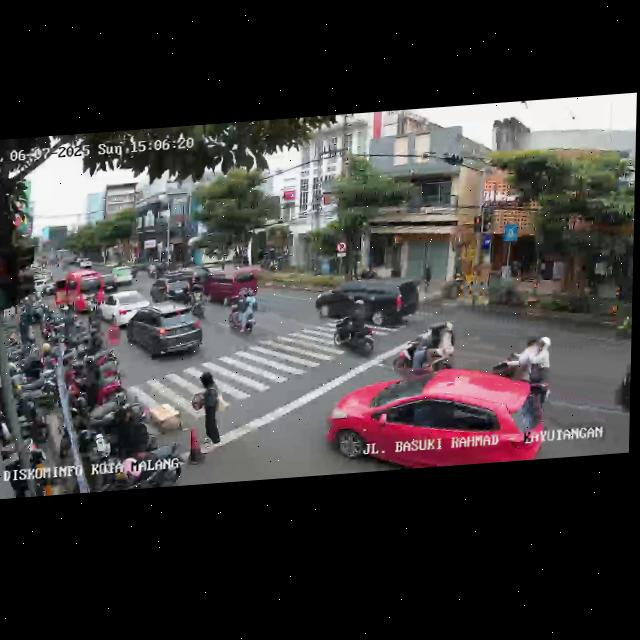car: (326, 362, 544, 474), (313, 273, 420, 331), (126, 300, 204, 367), (51, 269, 103, 315), (203, 264, 259, 305), (99, 289, 151, 329), (149, 266, 199, 305), (110, 265, 135, 286), (101, 274, 118, 293)
motorcycle: (495, 332, 557, 409), (394, 319, 457, 377), (332, 293, 381, 357), (229, 288, 259, 339), (614, 348, 631, 418), (610, 298, 631, 343), (188, 282, 208, 320)
person: (190, 373, 225, 457)
